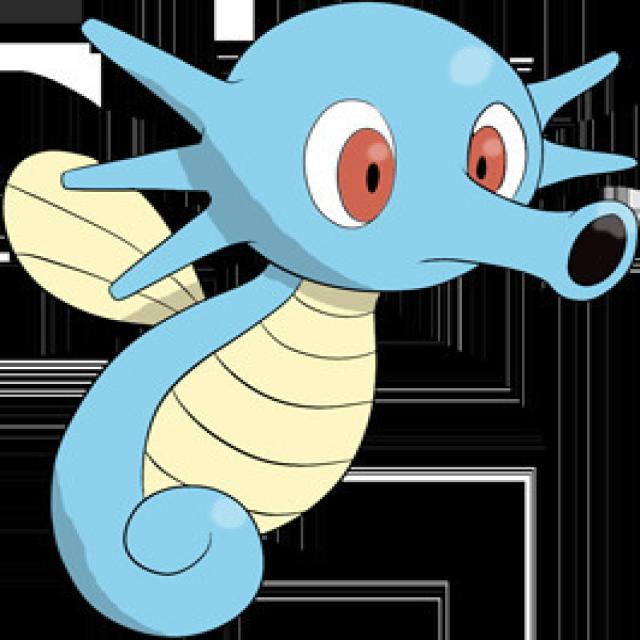Horsea: (12, 19, 640, 605)
